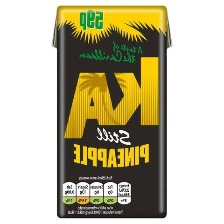carton: (40, 1, 178, 220)
